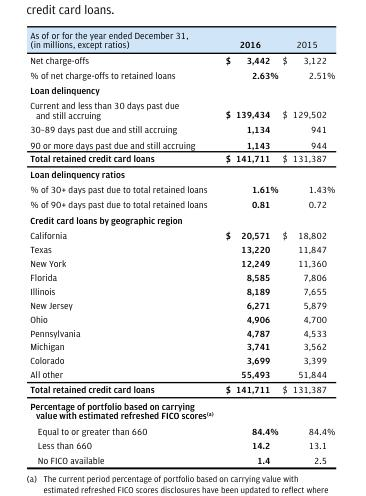table: (29, 29, 334, 465)
table column: (29, 29, 215, 465), (215, 29, 279, 465), (279, 29, 334, 465)
table column header: (29, 29, 334, 52)
table projected row header: (29, 397, 334, 423), (29, 165, 334, 181), (29, 211, 334, 227), (29, 82, 334, 97)
table row: (29, 397, 334, 423), (29, 97, 334, 122), (29, 29, 334, 52), (29, 165, 334, 181), (29, 211, 334, 227), (29, 381, 334, 397), (29, 52, 334, 67), (29, 67, 334, 82), (29, 82, 334, 97), (29, 136, 334, 151), (29, 181, 334, 196), (29, 196, 334, 211), (29, 227, 334, 242), (29, 437, 334, 452), (29, 122, 334, 136), (29, 151, 334, 165), (29, 242, 334, 256), (29, 256, 334, 270), (29, 283, 334, 297), (29, 297, 334, 311), (29, 311, 334, 325), (29, 325, 334, 339), (29, 339, 334, 353), (29, 353, 334, 367), (29, 367, 334, 381), (29, 423, 334, 437), (29, 270, 334, 283), (29, 452, 334, 465)
